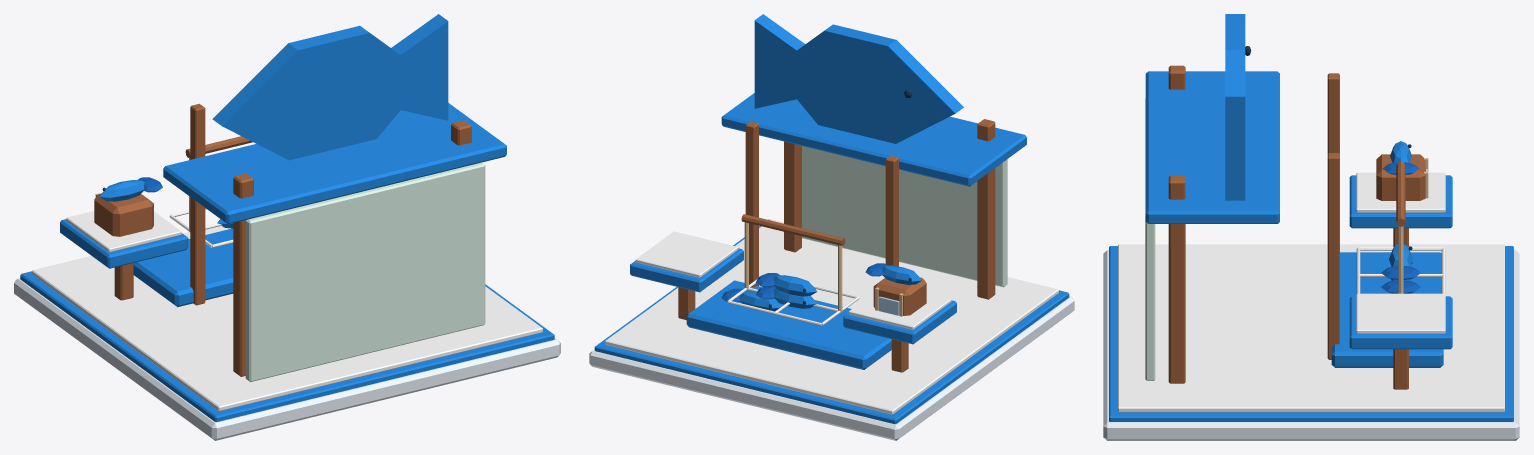
The model's file is Building_Fishery_2x2_v002.fbx.
The picture shows the model from 3 angles, left to right: view 1: azimuth 30°, elevation 25°; view 2: azimuth 150°, elevation 25°; view 3: azimuth 270°, elevation 25°; orthographic projection. The views are drawn at different scales.
Visible parts, largest first — view 1: FixedShell, OutputItemMesh, NetBasketMesh; view 2: FixedShell, NetBasketMesh, OutputItemMesh, ProcessFinishedMesh, ProcessRawMesh, InputItemMesh; view 3: FixedShell, OutputItemMesh, NetBasketMesh, ProcessFinishedMesh.
Part boxes in pixels (x1,y1,x2,y2): FixedShell: [14, 14, 560, 440]; OutputItemMesh: [94, 177, 162, 236]; NetBasketMesh: [169, 136, 252, 247]; FixedShell: [589, 14, 1074, 440]; NetBasketMesh: [727, 214, 859, 325]; OutputItemMesh: [865, 263, 926, 316]; ProcessFinishedMesh: [756, 273, 817, 296]; ProcessRawMesh: [755, 286, 816, 308]; InputItemMesh: [721, 288, 781, 311]; FixedShell: [1103, 14, 1519, 440]; OutputItemMesh: [1376, 141, 1428, 200]; NetBasketMesh: [1356, 162, 1445, 293]; ProcessFinishedMesh: [1381, 244, 1420, 279].
Size of the model in its own units: 186 by 160 by 186.
